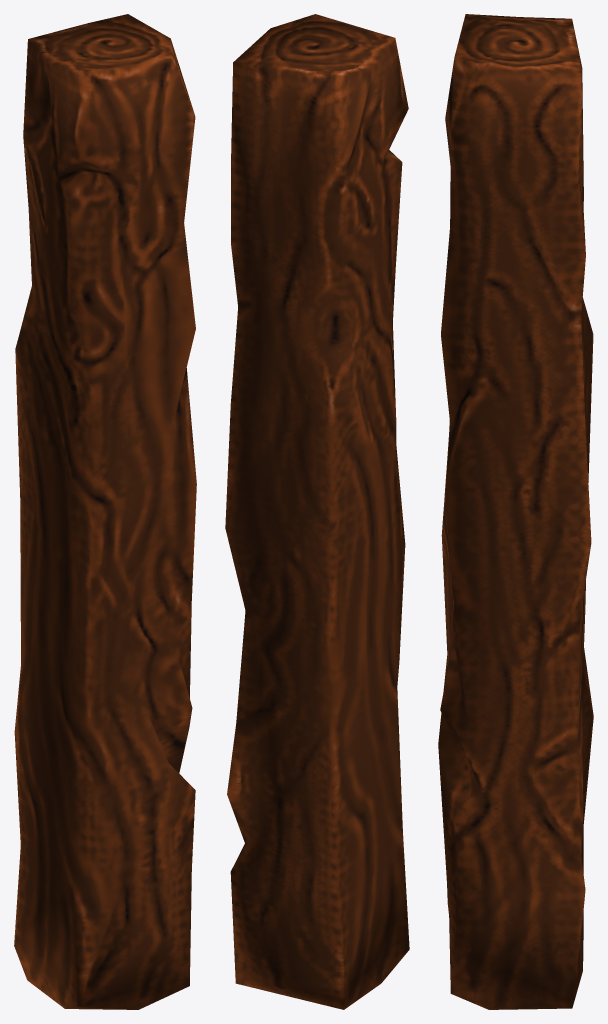
File: asset_3D_enviro_FanceWood_02.fbx
3 views of the same model, side by side, from view 1: azimuth 30°, elevation 25°; view 2: azimuth 150°, elevation 25°; view 3: azimuth 270°, elevation 25° (orthographic).
Parts seen in each view (by area): view 1: WoodLog_LP; view 2: WoodLog_LP; view 3: WoodLog_LP.
Boxes of the visible parts, <box> form: WoodLog_LP: <box>14,14,196,1009</box>; WoodLog_LP: <box>225,14,409,1009</box>; WoodLog_LP: <box>438,14,593,1009</box>.
Bounding box in the file's own units: 79.61 × 600 × 89.55.
1 material, 1 textured.
